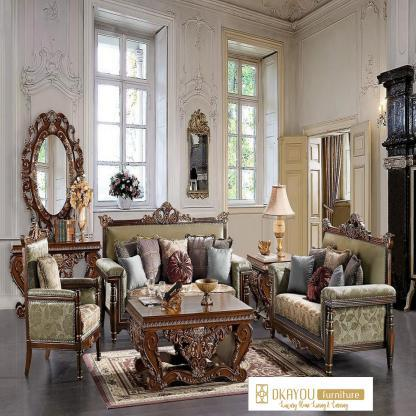bantal: (206, 249, 233, 281), (288, 256, 310, 294), (40, 257, 63, 291), (122, 258, 148, 286)
meja: (118, 293, 252, 387), (266, 185, 292, 259)
sova: (275, 219, 401, 375), (100, 213, 253, 320), (19, 240, 104, 381)
tanaman: (108, 168, 142, 201)
